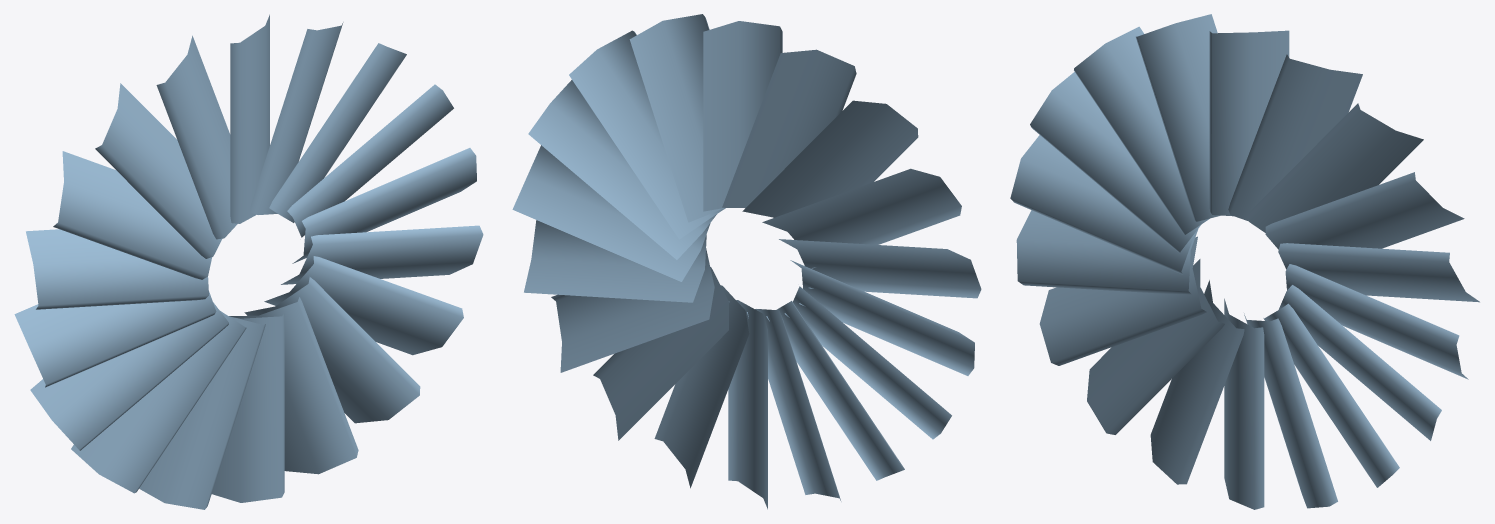
File: engine 2 blades.FBX
3 views of the same model, side by side, from view 1: azimuth 30°, elevation 25°; view 2: azimuth 150°, elevation 25°; view 3: azimuth 330°, elevation 25° (orthographic).
Parts seen in each view (by area): view 1: blades; view 2: blades; view 3: blades.
Boxes of the visible parts, x1,y1,x2,y2 form: blades: (14, 14, 483, 509); blades: (512, 14, 981, 509); blades: (1010, 14, 1479, 509).
Bounding box in the file's own units: 0.0138 × 0.00124 × 0.0139.
